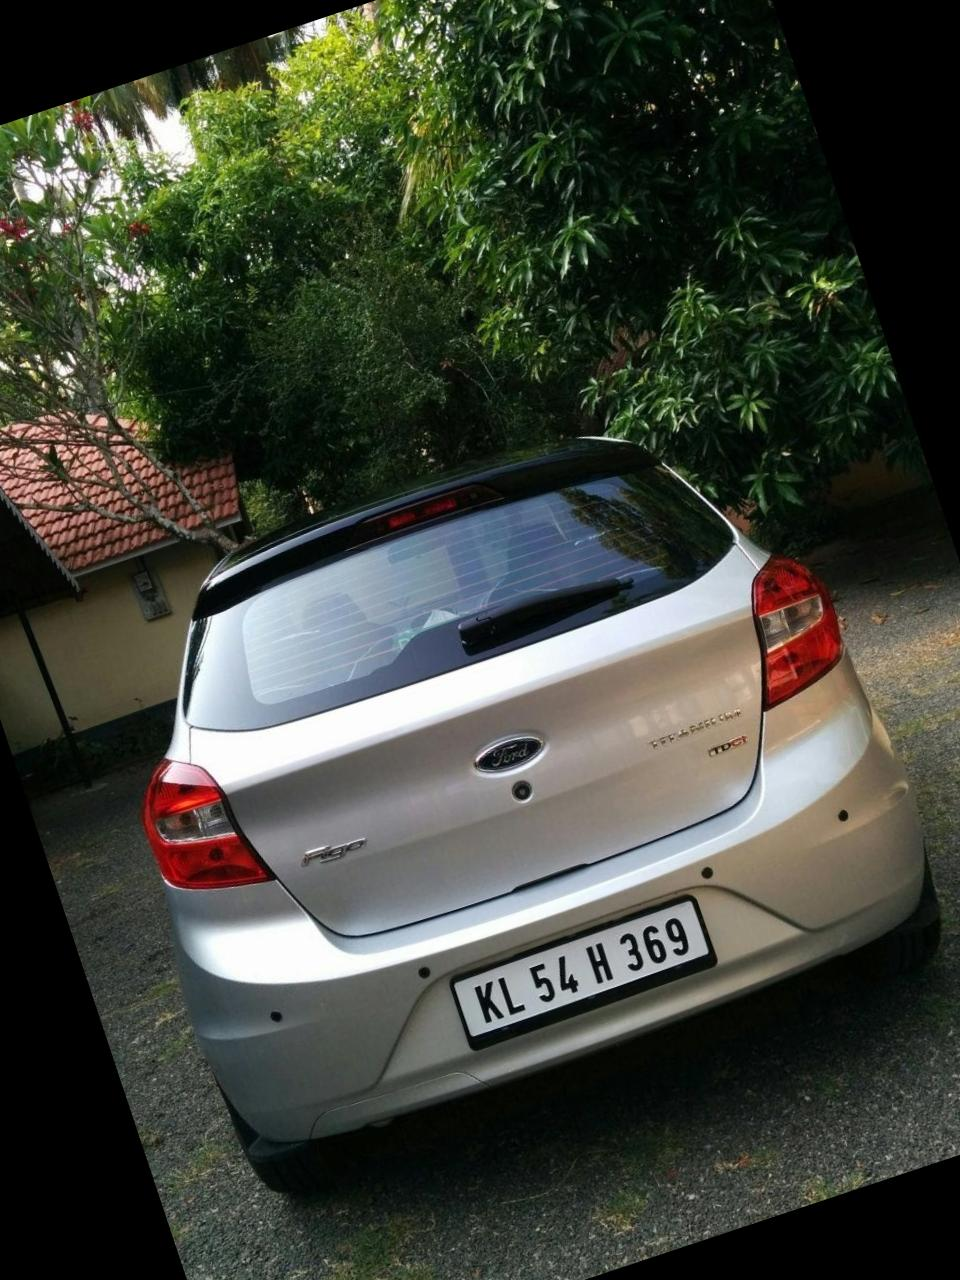plate: (433, 866, 770, 1086)
